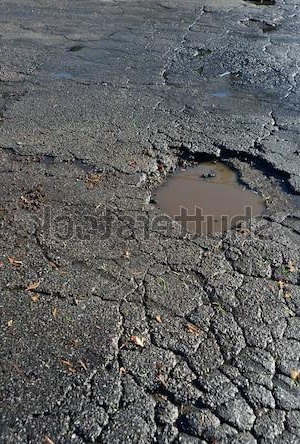pothole: (136, 137, 296, 239), (235, 15, 279, 32), (241, 0, 281, 6)
